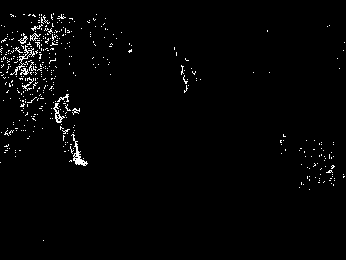person: (55, 96, 88, 167)
